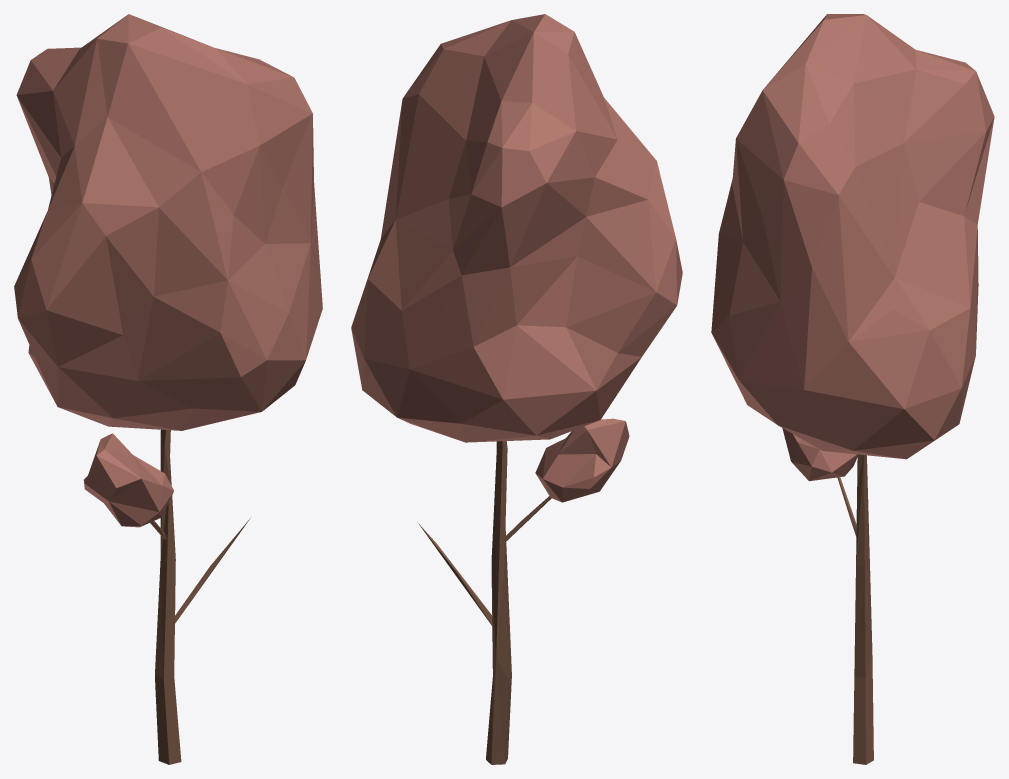
File: tree-10.glb
3 views of the same model, side by side, from view 1: azimuth 30°, elevation 25°; view 2: azimuth 150°, elevation 25°; view 3: azimuth 270°, elevation 25° (orthographic). The views are drawn at different scales.
Visible parts, largest first — view 1: Tree3_1; view 2: Tree3_1; view 3: Tree3_1.
Boxes of the visible parts, x1,y1,x2,y2 form: Tree3_1: (14,14,322,764); Tree3_1: (351,14,682,764); Tree3_1: (711,14,994,764).
Size of the model in its own units: 5.54 by 13.51 by 4.77.
